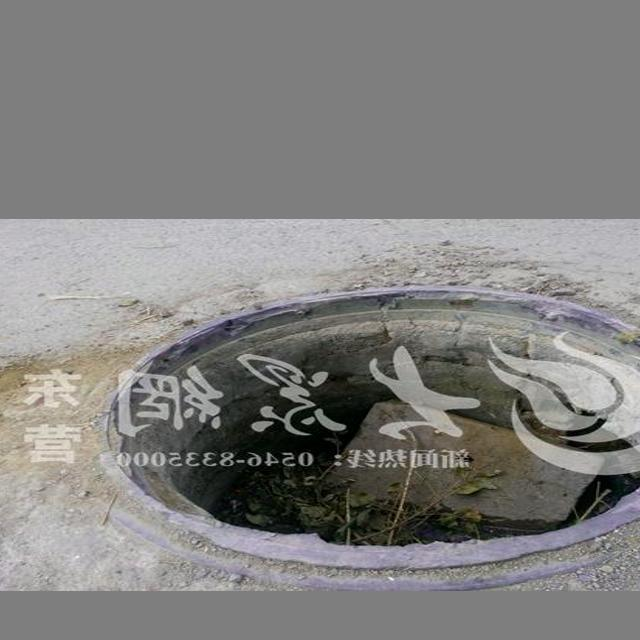lose: (85, 284, 640, 580)
